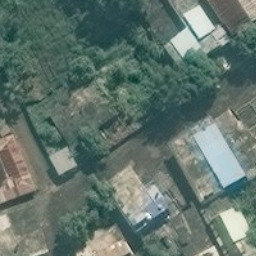buildings: (168, 115, 249, 200), (47, 88, 121, 150), (1, 130, 47, 211), (116, 181, 169, 230), (207, 1, 255, 50), (1, 214, 54, 256), (72, 225, 143, 256), (214, 208, 256, 248), (171, 26, 204, 72), (180, 4, 221, 39), (47, 149, 88, 182), (185, 247, 234, 256)
